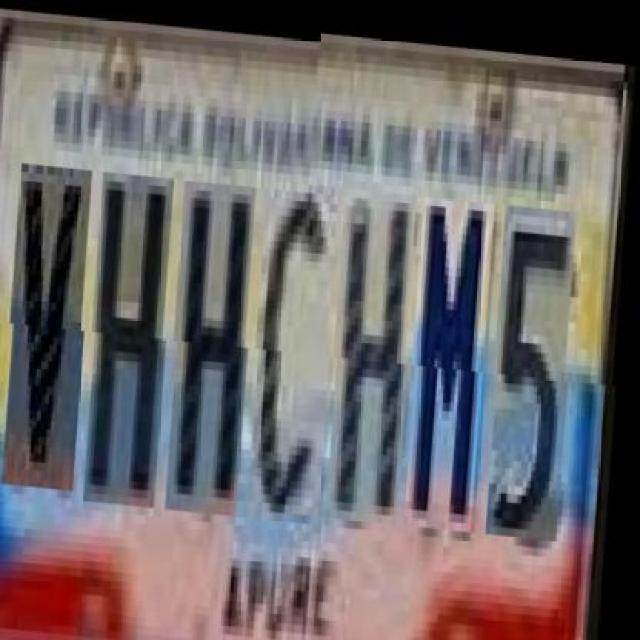5: (492, 202, 583, 536)
c: (254, 183, 344, 517)
h: (90, 169, 181, 503), (172, 177, 263, 511), (332, 189, 423, 523)
m: (410, 196, 501, 530)
v: (10, 163, 99, 489)
